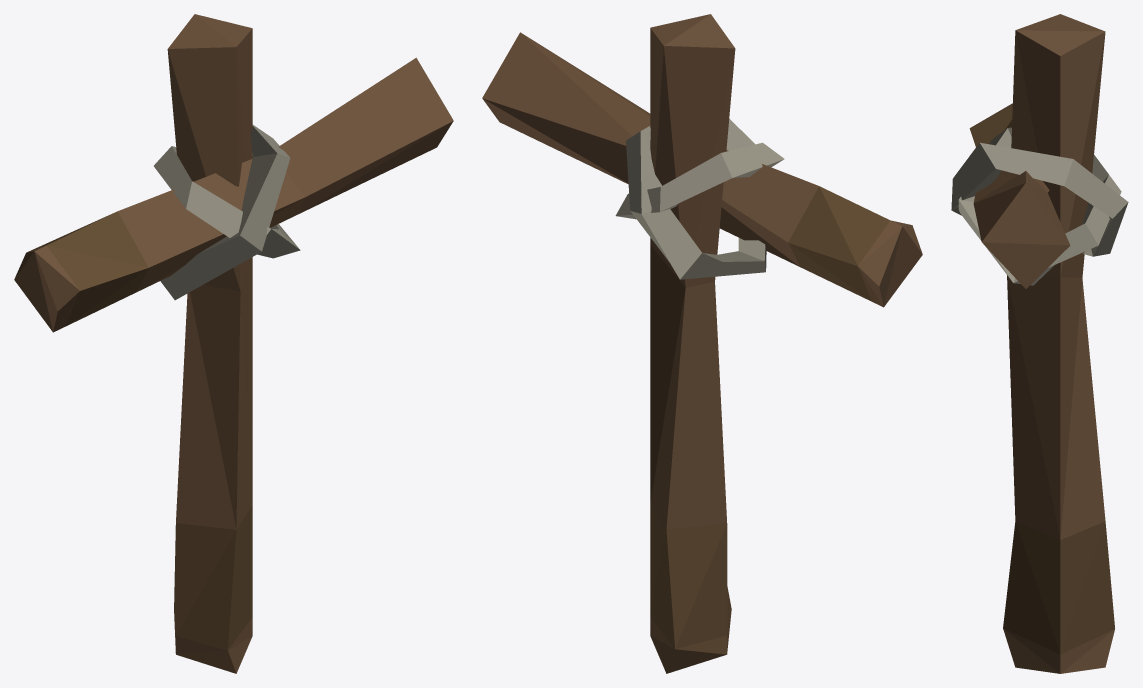
File: grave_cross_03.fbx
3 views of the same model, side by side, from view 1: azimuth 30°, elevation 25°; view 2: azimuth 150°, elevation 25°; view 3: azimuth 270°, elevation 25° (orthographic).
Visible parts, largest first — view 1: grave_cross_03; view 2: grave_cross_03; view 3: grave_cross_03.
Part boxes in pixels (box(x1,y1,x2,y2)): grave_cross_03: box(14, 14, 453, 673); grave_cross_03: box(482, 14, 922, 673); grave_cross_03: box(951, 14, 1128, 673).
Size of the model in its own units: 1.99 by 2.96 by 0.7454.
